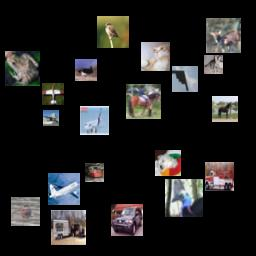airplane: (48, 173, 80, 205), (80, 106, 109, 135), (172, 66, 198, 92), (42, 83, 64, 105), (43, 110, 59, 126)
automobile: (111, 204, 143, 236)
bird: (165, 179, 203, 217), (97, 16, 129, 48), (11, 197, 40, 226), (75, 59, 97, 81)
cat: (141, 42, 170, 71), (204, 55, 223, 74)
deer: (206, 18, 241, 53)
dog: (155, 150, 181, 176)
frog: (5, 51, 40, 86)
truck: (51, 210, 86, 245), (205, 162, 234, 191), (85, 163, 104, 182)
